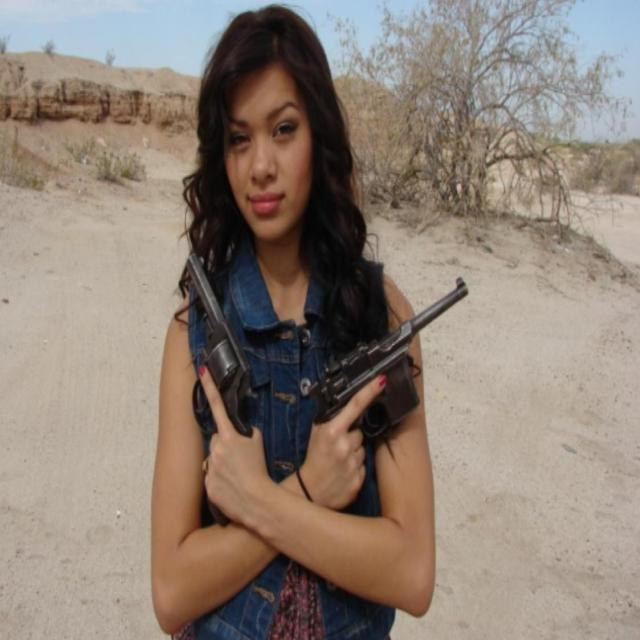gun: (308, 275, 472, 446), (184, 249, 259, 528)
